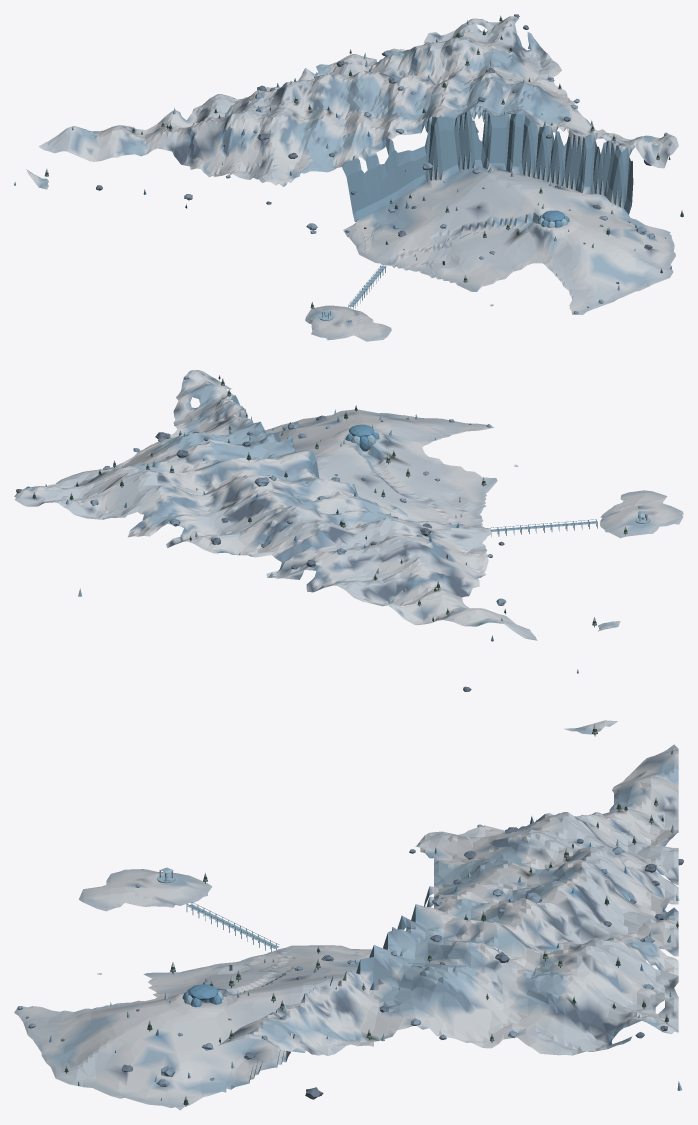
File: frost_isl_frostreach_lod1.glb
The picture shows the model from 3 angles, top to bottom: view 1: azimuth 30°, elevation 25°; view 2: azimuth 150°, elevation 25°; view 3: azimuth 270°, elevation 25°; orthographic projection. The views are drawn at different scales.
Visible parts, largest first — view 1: geometry_0; view 2: geometry_0; view 3: geometry_0.
Boxes of the visible parts, x1,y1,x2,y2 form: geometry_0: (14,14,683,341); geometry_0: (14,370,683,691); geometry_0: (14,720,683,1110).
Size of the model in its own units: 344 by 63.68 by 290.
